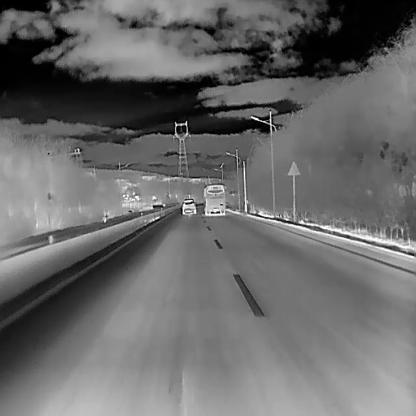car: (201, 181, 226, 217), (180, 196, 196, 216)
